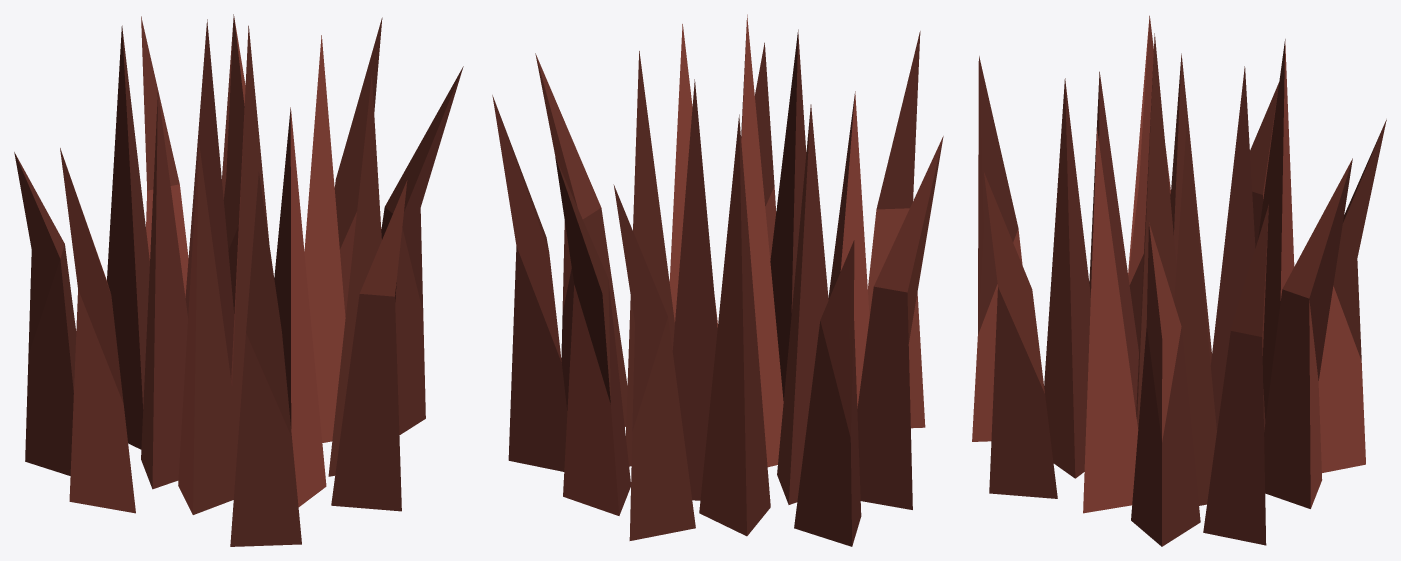
Rendered from Grass_4_Red.fbx.
3 views of the same model, side by side, from view 1: azimuth 30°, elevation 25°; view 2: azimuth 150°, elevation 25°; view 3: azimuth 270°, elevation 25° (orthographic). The views are drawn at different scales.
Parts seen in each view (by area): view 1: Grass_4_Red_Part_1, Grass_4_Red_Part_2; view 2: Grass_4_Red_Part_1, Grass_4_Red_Part_2; view 3: Grass_4_Red_Part_1, Grass_4_Red_Part_2.
Boxes of the visible parts, x1,y1,x2,y2 form: Grass_4_Red_Part_1: (14,14,463,546); Grass_4_Red_Part_2: (60,16,407,514); Grass_4_Red_Part_1: (495,27,920,546); Grass_4_Red_Part_2: (492,14,943,536); Grass_4_Red_Part_1: (978,33,1386,546); Grass_4_Red_Part_2: (972,15,1365,513).
Size of the model in its own units: 44.82 by 46.94 by 41.13.
